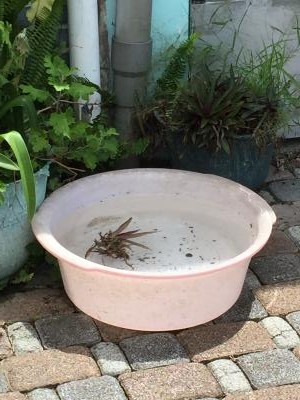bowl: (31, 166, 276, 332)
